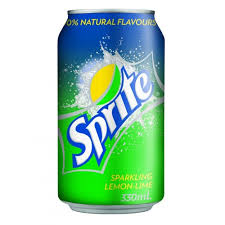can: (55, 5, 168, 219)
